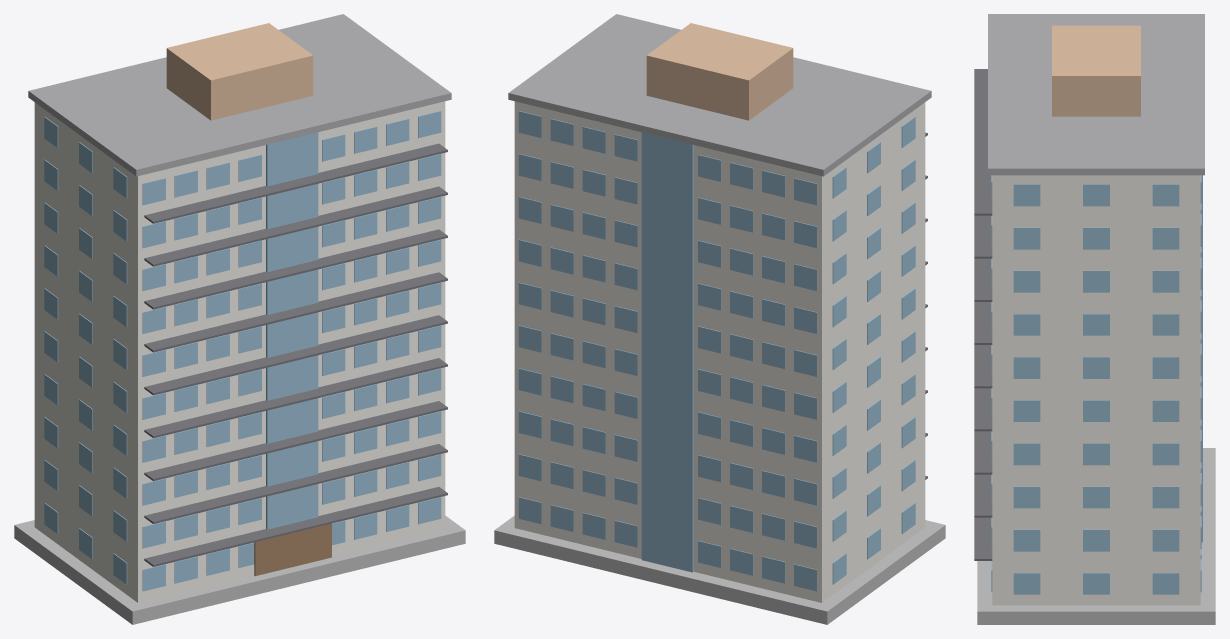
File: house-chungcu.glb
The picture shows the model from 3 angles, left to right: view 1: azimuth 30°, elevation 25°; view 2: azimuth 150°, elevation 25°; view 3: azimuth 270°, elevation 25°; orthographic projection.
Parts seen in each view (by area): view 1: Thân tháp, Cửa sổ trước, Ban công, Mái, Lõi kính, Tum kỹ thuật, Đế, Cửa sổ hông, Sảnh; view 2: Thân tháp, Cửa sổ sau, Mái, Lõi kính, Tum kỹ thuật, Đế, Cửa sổ hông; view 3: Thân tháp, Mái, Cửa sổ hông, Ban công, Tum kỹ thuật, Đế, Cửa sổ sau, Lõi kính, Cửa sổ trước.
Part boxes in pixels (left/top/right/bottom): Thân tháp: left=34, top=101, right=445, bottom=602; Cửa sổ trước: left=142, top=111, right=441, bottom=591; Ban công: left=144, top=143, right=447, bottom=566; Mái: left=28, top=14, right=451, bottom=176; Lõi kính: left=266, top=132, right=318, bottom=529; Tum kỹ thuật: left=166, top=23, right=313, bottom=120; Đế: left=14, top=515, right=465, bottom=624; Cửa sổ hông: left=44, top=117, right=127, bottom=584; Sảnh: left=254, top=523, right=331, bottom=576; Thân tháp: left=514, top=101, right=925, bottom=602; Cửa sổ sau: left=518, top=111, right=817, bottom=591; Mái: left=508, top=14, right=931, bottom=176; Lõi kính: left=641, top=132, right=693, bottom=572; Tum kỹ thuật: left=646, top=23, right=793, bottom=120; Đế: left=494, top=515, right=945, bottom=624; Cửa sổ hông: left=832, top=117, right=915, bottom=584; Thân tháp: left=992, top=175, right=1200, bottom=605; Mái: left=988, top=14, right=1204, bottom=175; Cửa sổ hông: left=1013, top=184, right=1179, bottom=594; Ban công: left=974, top=69, right=992, bottom=560; Tum kỹ thuật: left=1052, top=25, right=1140, bottom=116; Đế: left=977, top=448, right=1215, bottom=624; Cửa sổ sau: left=1200, top=175, right=1201, bottom=592; Lõi kính: left=1201, top=175, right=1202, bottom=542; Cửa sổ trước: left=991, top=175, right=992, bottom=592.
Size of the model in its own units: 26 by 36.5 by 16.2.
